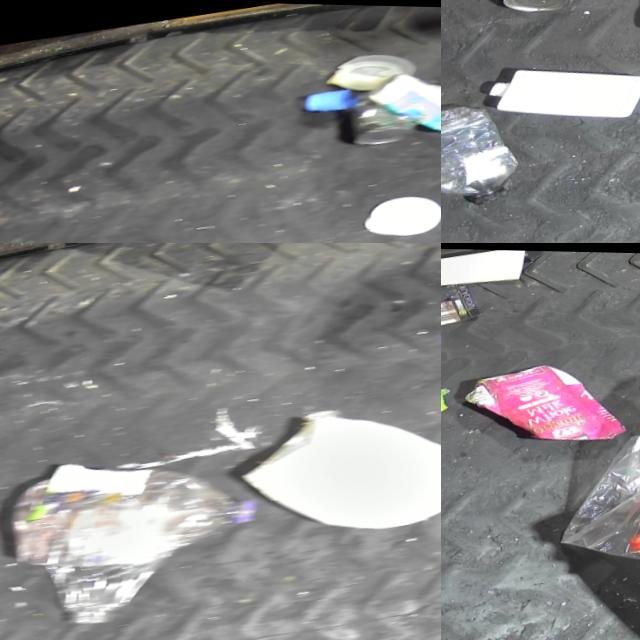can: (342, 82, 424, 148), (491, 0, 626, 23)
milk_jug: (232, 380, 441, 555)
plastic_bottle: (0, 427, 278, 587), (441, 91, 554, 224), (47, 544, 183, 635)
